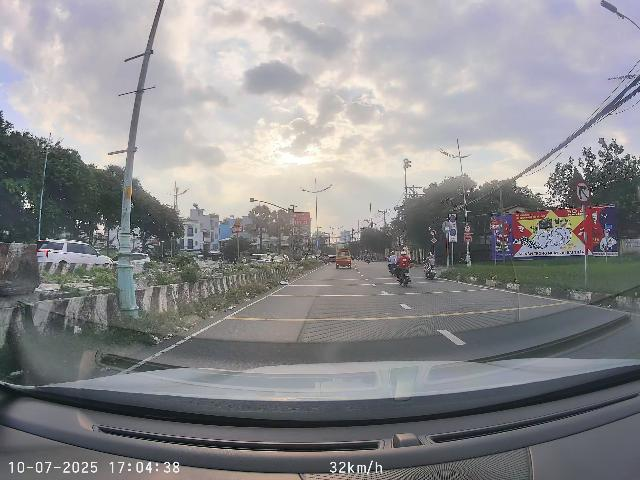123b-cam-re-phai: (574, 179, 591, 204)
